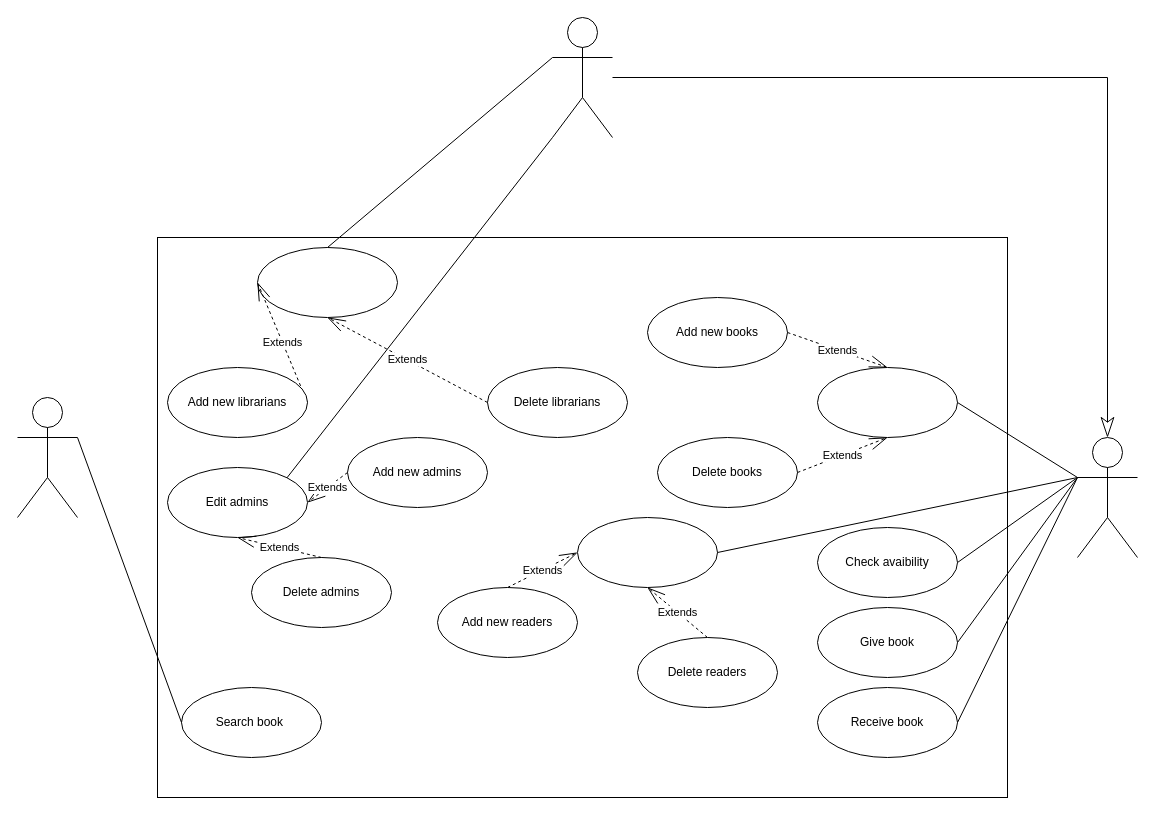
Some shapes in this 1155 by 815 pixel diagram are drawn without their labels. The shapes that lost their labels are listed below. From the top down, each one's centre as x and y in pixels, then its label:
At point (582, 77): "Admin".
At point (327, 282): "Edit librarians".
At point (887, 402): "Edit library".
At point (47, 457): "User".
At point (1107, 497): "Librarian".
At point (647, 552): "Edit readers".
